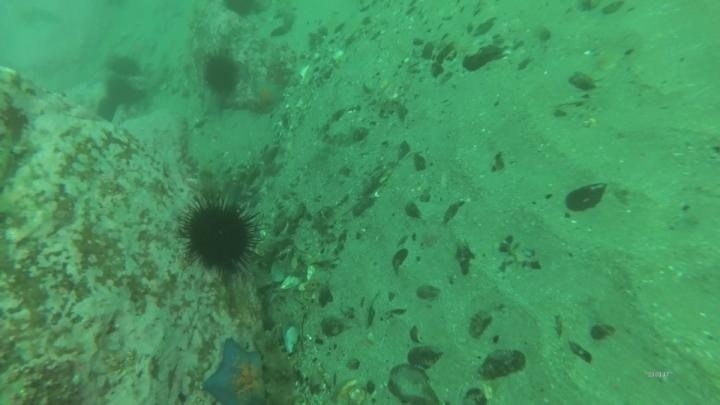echinus: (178, 195, 261, 276), (200, 50, 242, 97), (103, 75, 143, 109), (106, 52, 143, 79), (220, 1, 266, 20)
holothurian: (263, 335, 309, 405)
starfish: (200, 337, 271, 405), (248, 74, 286, 112)
